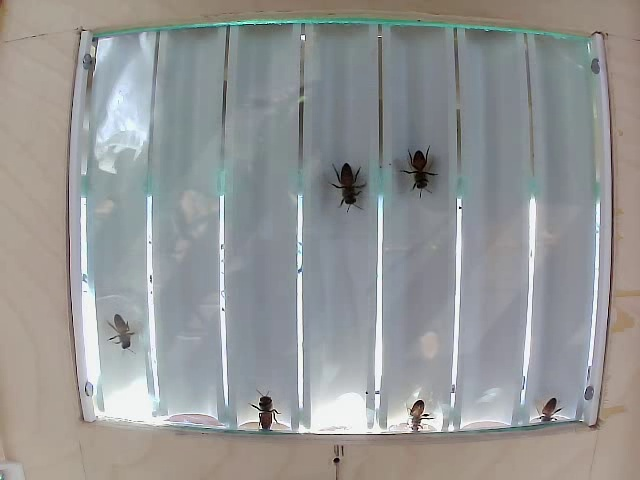bee: (328, 161, 368, 209), (399, 396, 438, 436), (404, 147, 431, 194), (253, 386, 277, 428), (111, 313, 134, 355), (541, 394, 556, 427)
